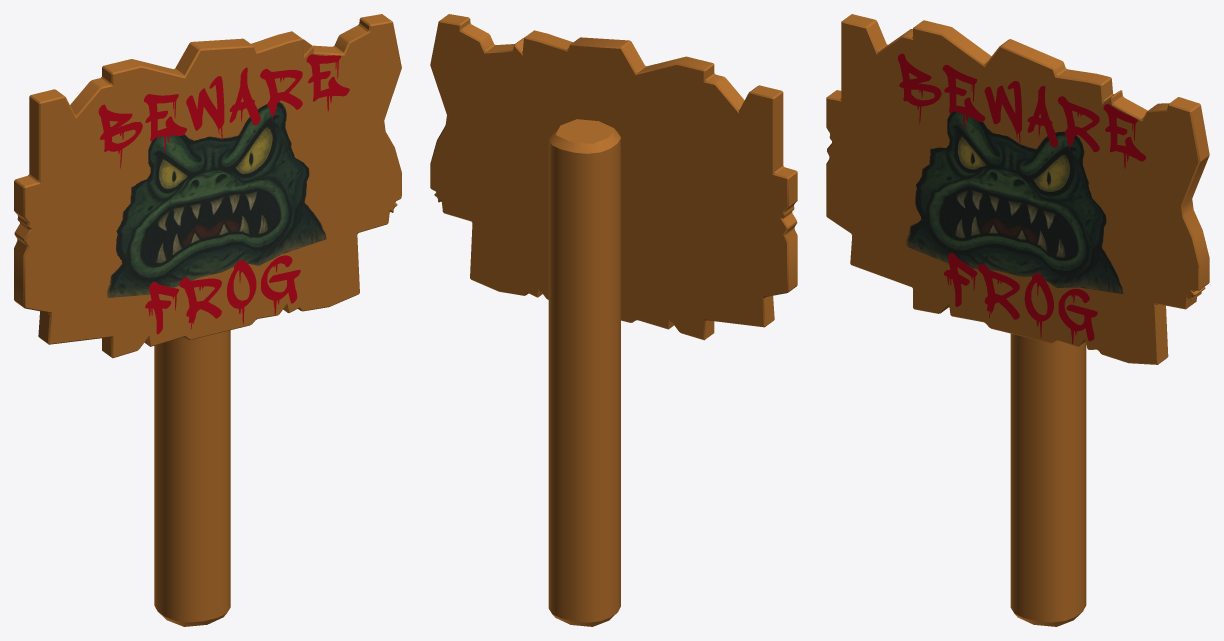
File: frogSign.fbx
3 views of the same model, side by side, from view 1: azimuth 30°, elevation 25°; view 2: azimuth 150°, elevation 25°; view 3: azimuth 330°, elevation 25° (orthographic). The views are drawn at different scales.
Parts seen in each view (by area): view 1: Plane, Plane.001, Cube, Beware, Frog; view 2: Plane, Cube; view 3: Plane, Plane.001, Cube, Beware, Frog.
Part boxes in pixels (bbox=[...]): Plane: bbox=[14, 14, 401, 358]; Plane.001: bbox=[107, 102, 326, 297]; Cube: bbox=[154, 330, 230, 626]; Beware: bbox=[98, 54, 349, 168]; Frog: bbox=[145, 255, 300, 334]; Plane: bbox=[430, 14, 797, 340]; Cube: bbox=[548, 119, 620, 626]; Plane: bbox=[826, 14, 1209, 364]; Plane.001: bbox=[906, 111, 1123, 294]; Cube: bbox=[1010, 333, 1086, 626]; Beware: bbox=[898, 53, 1145, 168]; Frog: bbox=[944, 253, 1097, 344].
Size of the model in its own units: 211 by 314 by 45.51.
